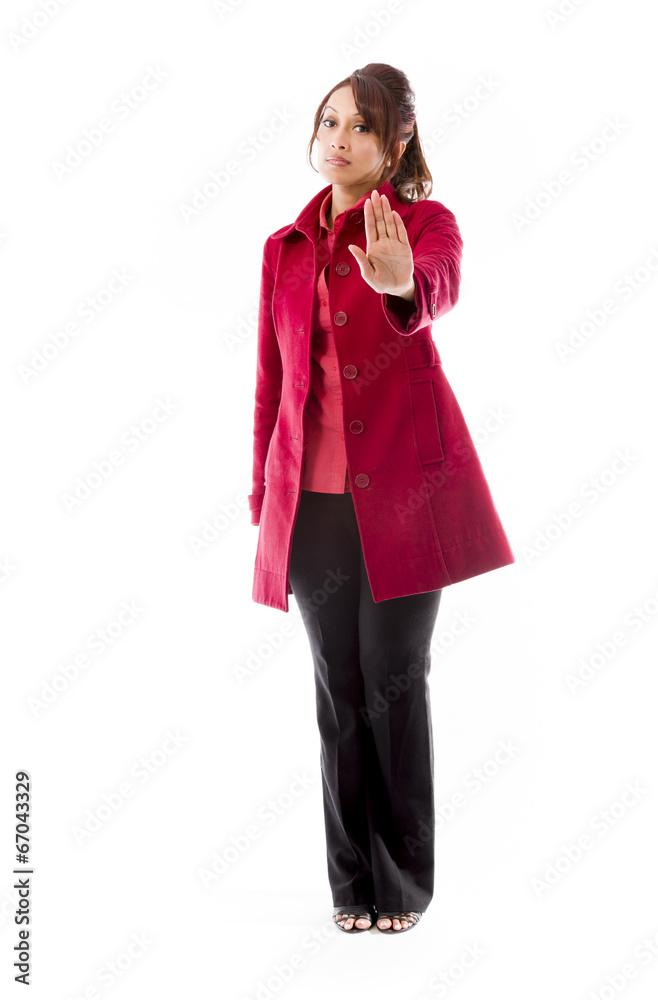Human: (184, 48, 530, 968)
